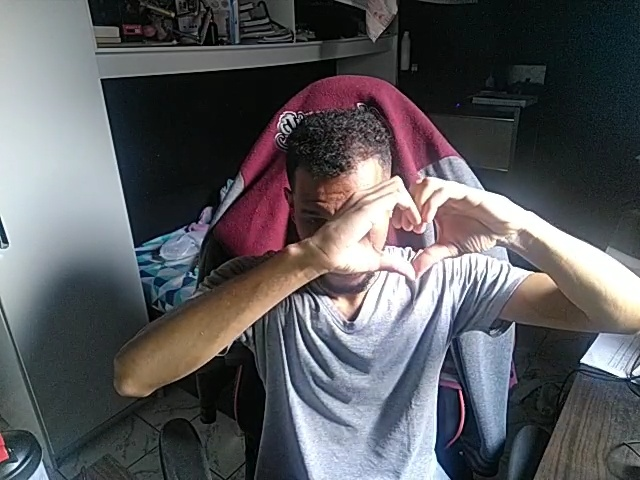eu_te_amo: (305, 175, 508, 280)
